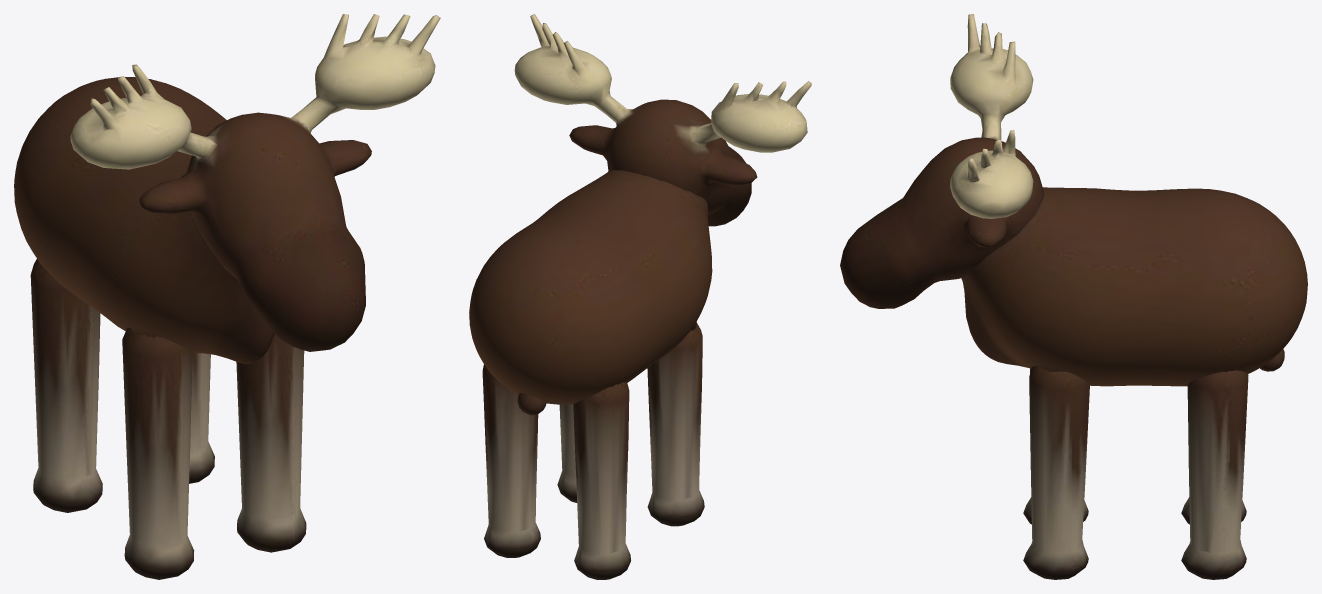
The model's file is animal_moose.glb.
3 views of the same model, side by side, from view 1: azimuth 30°, elevation 25°; view 2: azimuth 150°, elevation 25°; view 3: azimuth 270°, elevation 25° (orthographic). The views are drawn at different scales.
Parts seen in each view (by area): view 1: head, animal_moose, leg0, leg2, leg1, leg3; view 2: animal_moose, head, leg2, leg0, leg3, leg1, tail; view 3: animal_moose, head, leg1, leg3.
Boxes of the visible parts, x1,y1,x2,y2 form: head: (70,14,440,351); animal_moose: (14,77,274,364); leg0: (122,328,194,579); leg2: (30,259,102,512); leg1: (236,334,306,552); leg3: (189,352,214,483); animal_moose: (469,170,712,404); head: (514,14,811,226); leg2: (573,382,630,579); leg0: (647,322,704,526); leg3: (482,364,540,557); leg1: (557,404,576,502); tail: (517,393,546,415); animal_moose: (961,187,1307,386); head: (840,14,1043,308); leg1: (1023,366,1089,579); leg3: (1181,370,1248,579).
Bounding box in the file's own units: 0.5369 × 0.7837 × 0.7107.
1 material, 1 textured.
